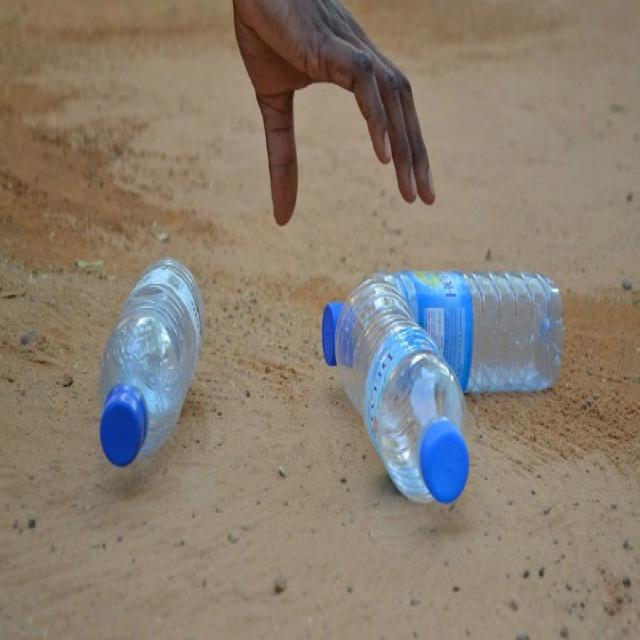Plastic Bottle: (336, 276, 472, 514), (320, 267, 567, 398), (98, 253, 207, 472)
